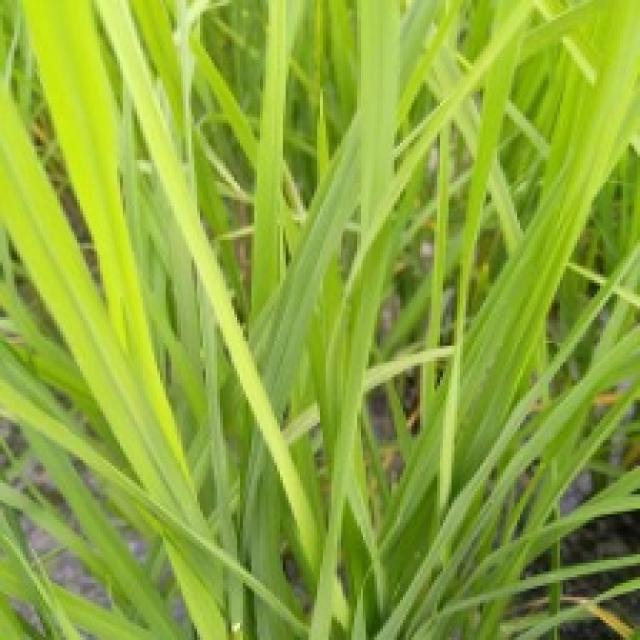Bacterial_Blight: (528, 594, 632, 640), (581, 391, 640, 406)
